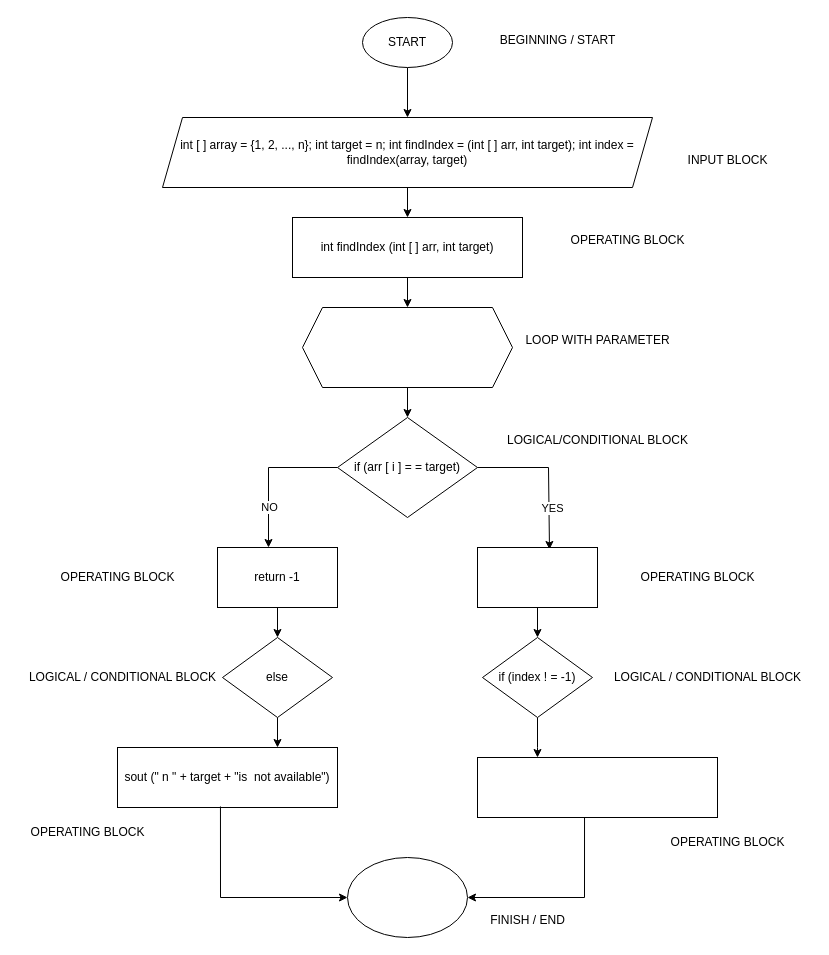
This 829x955 diagram has some shape labels left out. Each missing label, with the box of its shape:
END: (346, 856, 468, 938)
for (int i = arr.length - 1; i > = 0; i - -): (302, 306, 512, 388)
return i: (476, 546, 598, 608)
sout (" n " + target + " index is " + index): (476, 756, 718, 818)
